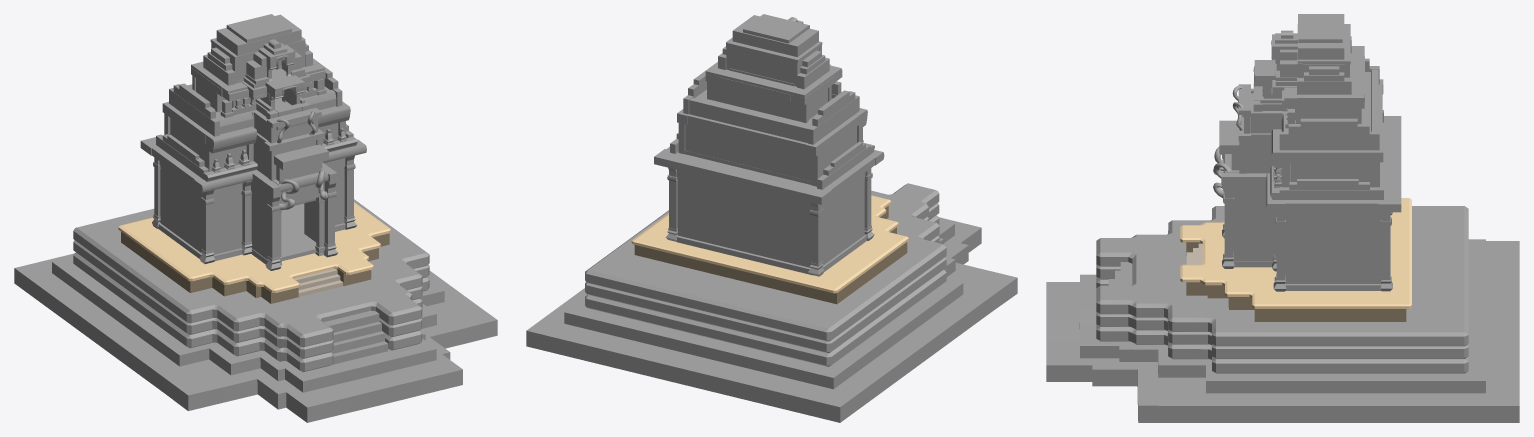
File: temple_geo.fbx
The picture shows the model from 3 angles, left to right: view 1: azimuth 30°, elevation 25°; view 2: azimuth 150°, elevation 25°; view 3: azimuth 270°, elevation 25°; orthographic projection. The views are drawn at different scales.
Parts seen in each view (by area): view 1: deco, bottom_first_layer, bottom_thrid_layer_third, wall, bottom_second_layer, bottom_fourth_layer_second, pillar, bottom_thrid_layer_third2, bottom_thrid_layer_third1, bottom_fourth_layer_first, bottom_third_layer_stair, floor (+3 smaller); view 2: deco, bottom_first_layer, wall, bottom_thrid_layer_third, bottom_second_layer, bottom_fourth_layer_second, bottom_thrid_layer_third2, bottom_thrid_layer_third1, pillar, bottom_fourth_layer_first, floor; view 3: deco, bottom_first_layer, bottom_thrid_layer_third, bottom_second_layer, wall, bottom_fourth_layer_second, bottom_thrid_layer_third2, bottom_thrid_layer_third1, pillar, bottom_fourth_layer_first, floor, curve.
Part boxes in pixels (bbox=[...]): deco: bbox=[140, 14, 366, 264]; bottom_first_layer: bbox=[14, 253, 497, 422]; bottom_thrid_layer_third: bbox=[73, 199, 429, 347]; wall: bbox=[160, 43, 344, 258]; bottom_second_layer: bbox=[52, 257, 444, 392]; bottom_fourth_layer_second: bbox=[118, 202, 390, 292]; pillar: bbox=[152, 41, 357, 270]; bottom_thrid_layer_third2: bbox=[73, 252, 429, 372]; bottom_thrid_layer_third1: bbox=[73, 240, 429, 358]; bottom_fourth_layer_first: bbox=[121, 232, 389, 303]; bottom_third_layer_stair: bbox=[324, 310, 388, 364]; floor: bbox=[191, 59, 329, 260]; deco: bbox=[654, 14, 884, 275]; bottom_first_layer: bbox=[526, 217, 1017, 422]; wall: bbox=[677, 46, 864, 267]; bottom_thrid_layer_third: bbox=[585, 183, 946, 341]; bottom_second_layer: bbox=[564, 220, 963, 389]; bottom_fourth_layer_second: bbox=[631, 195, 908, 293]; bottom_thrid_layer_third2: bbox=[585, 215, 946, 366]; bottom_thrid_layer_third1: bbox=[585, 203, 946, 353]; pillar: bbox=[665, 45, 874, 276]; bottom_fourth_layer_first: bbox=[634, 206, 907, 304]; floor: bbox=[695, 62, 835, 126]; deco: bbox=[1219, 14, 1401, 290]; bottom_first_layer: bbox=[1046, 241, 1519, 422]; bottom_thrid_layer_third: bbox=[1096, 206, 1468, 346]; bottom_second_layer: bbox=[1079, 239, 1485, 393]; wall: bbox=[1234, 64, 1381, 283]; bottom_fourth_layer_second: bbox=[1180, 198, 1411, 308]; bottom_thrid_layer_third2: bbox=[1096, 277, 1468, 373]; bottom_thrid_layer_third1: bbox=[1096, 264, 1468, 358]; pillar: bbox=[1222, 59, 1392, 291]; bottom_fourth_layer_first: bbox=[1186, 242, 1406, 321]; floor: bbox=[1250, 46, 1370, 181]; curve: bbox=[1213, 85, 1243, 198].
Bounding box in the file's own units: 1933 × 1706 × 2340.
